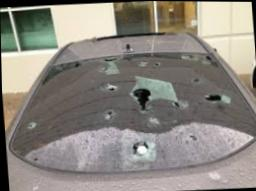Windshield: (8, 54, 256, 171)
